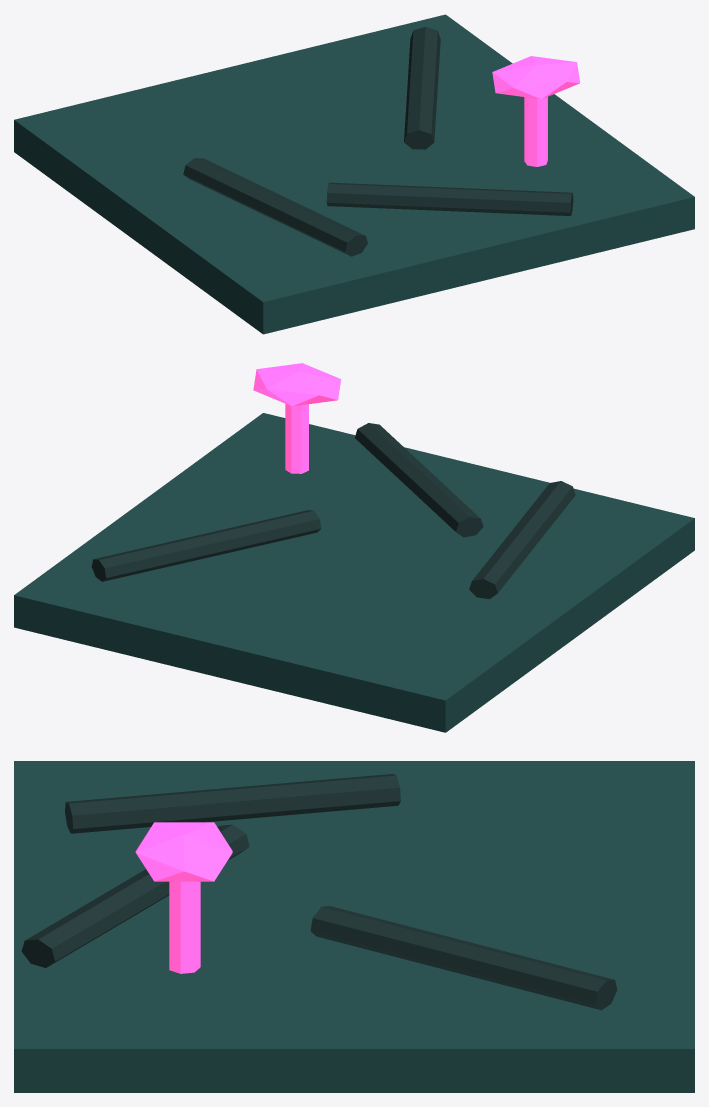
File: df_v2_high_ground_tile_a.glb
The picture shows the model from 3 angles, top to bottom: view 1: azimuth 30°, elevation 25°; view 2: azimuth 150°, elevation 25°; view 3: azimuth 270°, elevation 25°; orthographic projection. The views are drawn at different scales.
Parts seen in each view (by area): view 1: chunky_floor_slab, surface_root_2, surface_root_0, surface_root_1, tiny_edge_glow_cap, tiny_edge_glow_stem; view 2: chunky_floor_slab, surface_root_1, surface_root_2, surface_root_0, tiny_edge_glow_cap, tiny_edge_glow_stem; view 3: chunky_floor_slab, surface_root_0, surface_root_1, surface_root_2, tiny_edge_glow_cap, tiny_edge_glow_stem.
Boxes of the visible parts, x1,y1,x2,y2 form: chunky_floor_slab: [14, 14, 694, 334]; surface_root_2: [326, 182, 573, 215]; surface_root_0: [183, 158, 367, 256]; surface_root_1: [404, 26, 440, 149]; tiny_edge_glow_cap: [492, 56, 580, 99]; tiny_edge_glow_stem: [524, 97, 547, 166]; chunky_floor_slab: [14, 413, 694, 732]; surface_root_1: [91, 510, 321, 581]; surface_root_2: [355, 423, 483, 537]; surface_root_0: [469, 481, 575, 599]; tiny_edge_glow_cap: [253, 363, 341, 406]; tiny_edge_glow_stem: [285, 404, 308, 473]; chunky_floor_slab: [14, 761, 694, 1092]; surface_root_0: [65, 774, 400, 833]; surface_root_1: [310, 906, 617, 1010]; surface_root_2: [21, 824, 249, 967]; tiny_edge_glow_cap: [135, 822, 232, 881]; tiny_edge_glow_stem: [169, 881, 200, 973].
Bounding box in the file's own units: 1.12 × 0.3518 × 1.12.
